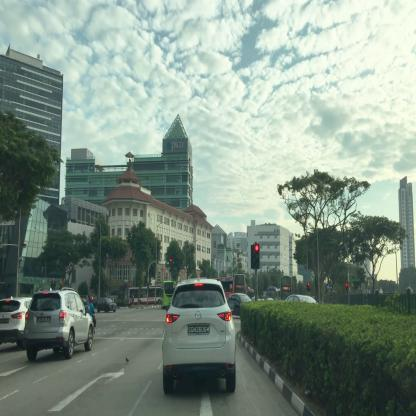red_traffic_light: (254, 244, 259, 272)
